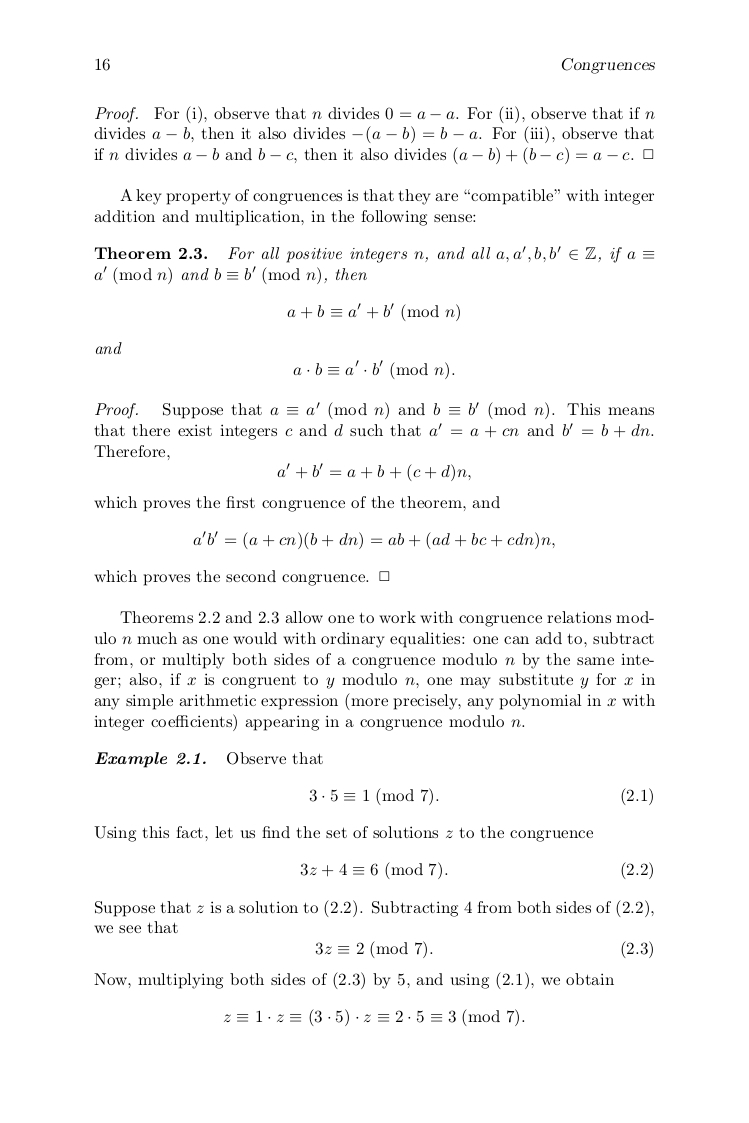formula: (193, 530, 554, 550), (300, 861, 652, 880), (309, 787, 652, 806), (315, 940, 652, 959), (223, 1008, 524, 1027), (277, 462, 470, 482), (287, 302, 459, 322), (293, 359, 454, 380)
